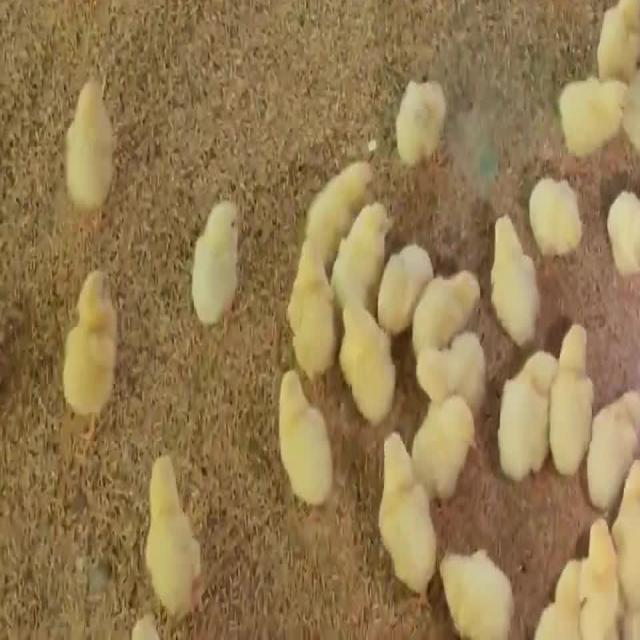poussin: (137, 454, 212, 604), (549, 499, 626, 640), (379, 431, 442, 602), (64, 261, 122, 421), (475, 210, 550, 331), (442, 526, 522, 638), (552, 58, 634, 166), (496, 331, 559, 467), (334, 286, 394, 424), (538, 306, 591, 459), (304, 155, 374, 269), (186, 192, 243, 330), (292, 252, 344, 399), (411, 394, 480, 501), (279, 358, 329, 504), (62, 78, 114, 218), (384, 51, 454, 155), (581, 393, 638, 512), (418, 266, 478, 368), (333, 184, 395, 271), (520, 174, 590, 251), (378, 236, 436, 323), (414, 334, 486, 404), (603, 196, 640, 293)
